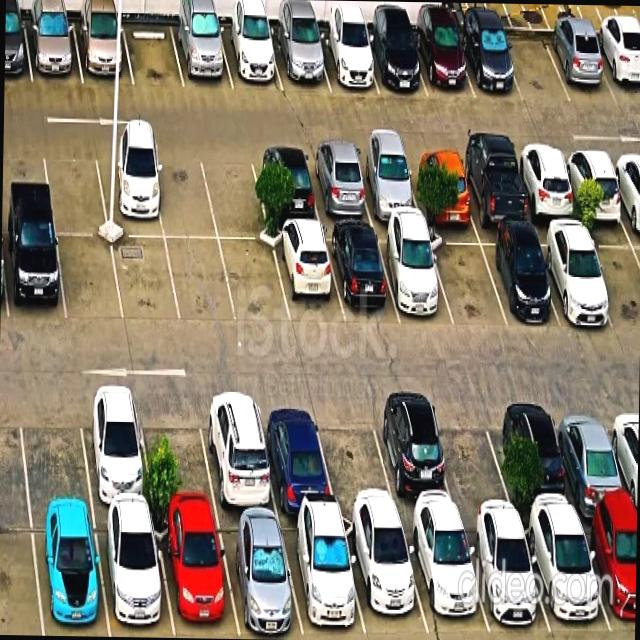car: (228, 526, 294, 640), (32, 527, 101, 636), (160, 526, 227, 638), (537, 529, 601, 640), (356, 531, 421, 640), (293, 526, 354, 640), (202, 422, 268, 527), (418, 529, 479, 640), (101, 528, 162, 637), (380, 414, 443, 518), (84, 422, 148, 522), (481, 528, 538, 640), (270, 426, 326, 532), (505, 407, 560, 513), (442, 414, 498, 514), (554, 232, 608, 334), (562, 416, 618, 514), (389, 231, 445, 326), (100, 142, 159, 230), (497, 233, 551, 329), (470, 146, 522, 241), (338, 226, 389, 322), (417, 139, 468, 234), (277, 232, 333, 318), (255, 146, 313, 229), (177, 0, 227, 93), (571, 148, 620, 242), (6, 236, 61, 319), (522, 150, 570, 242), (371, 6, 420, 96), (552, 5, 602, 91), (228, 0, 276, 89), (326, 2, 372, 94), (277, 0, 324, 89), (468, 3, 512, 98), (420, 8, 467, 96), (362, 146, 411, 228), (78, 0, 125, 80), (315, 147, 362, 225), (30, 0, 74, 82)
free: (22, 409, 88, 522), (147, 419, 208, 522), (323, 424, 388, 520), (438, 240, 498, 327), (61, 238, 118, 322), (159, 146, 210, 238), (127, 0, 179, 90), (116, 232, 170, 318), (212, 146, 264, 234), (45, 154, 101, 234), (224, 236, 276, 318), (508, 13, 558, 96), (172, 236, 224, 313)
